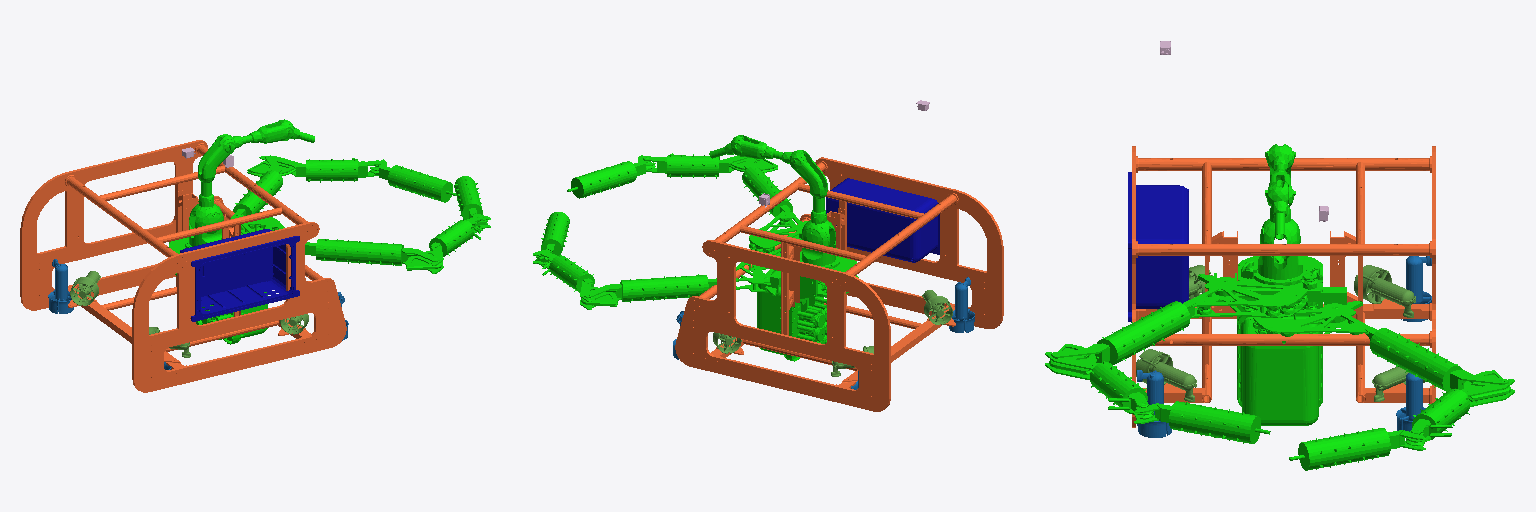
URDF robot description (spir_body):
<?xml version="1.0"?>
<robot name="spir_body">

<!-- Centre of geometry for robot. Defined as half way between furthest vertical extremeties of HDPE frame (i.e
     plastic orange side panels) in 3 dimensions -->
     <link name="COG" >
        <visual>
        <material name="orange">
            <color rgba="1 0.48 0.26 0.8" />
        </material>
        <origin xyz="0 0 0" rpy="0 0 0"/>
            <geometry>
                <mesh filename="package://spir_body/mesh/visual/frame_mesh.STL" />
            </geometry>
        </visual>
    </link>




<!-- Centre of mass for robot-->
    <link name="COM" />

<!--    Centre of buoyancy for robot-->
    <link name="COB" />
    
    <link name="sonar"/>
    
    <!-- depth sensor>-->
    <link name="DS"/>


<!--A fixed payload frame is modelled relative to the centre of gravity. Another 3 frames are modelled to simulate the movement-->
<!--of the payload in each of the 3 dimensions due to the rubber mounts. This will allow a second IMU to be placed on the payload-->
<!--to give the actual pose.-->

<!--Fixed Payload-->
    <link name="suspension" />
    <link name="suspension_phant1" />
    <link name="suspension_phant2" />
    <link name="payload" />
    <link name="/Hokuyo_URG_04LX_UG01_ROS"/>
    <link name="laser"/>
    <link name="IMU2"/>



<!--LV Enclosure-->
    <link name="LV_enclosure" >
        <visual>
        <material name="blue">
            <color rgba="0.1 0.1 0.7 0.25" />
        </material>
        <origin xyz="-0.05 0 0" rpy="0 0 0"/>
            <geometry>
                <mesh filename="package://spir_body/mesh/visual/LV_with_mounting_plate.STL" />
            </geometry>
        </visual>
    </link>

<!--Arms-->
    <link name="Arms" >
        <visual>
        <material name="green">
            <color rgba="0.1 0.9 0.1 0.8" />
        </material>
<!--         <origin xyz=".2 0.1 0.3" rpy="1.5708 0 -1.5708"/> -->
	<origin xyz="-0.4 -0.1 0.3" rpy="1.5708 0 1.5708"/>
            <geometry>
                <mesh filename="package://spir_body/mesh/visual/arms.STL" />
            </geometry>
        </visual>
    </link>


<!--IMU-->
    <link name="IMU" >
        <visual>
        <material name="light blue">
            <color rgba="0.88 0.75 0.86 1" />
        </material>
        <origin xyz="0 0 0" rpy="0 3.1412 0"/>
            <geometry>
                <mesh filename="package://spir_body/mesh/visual/IMU.STL" />
            </geometry>
        </visual>
    </link>

    <link name="LIDAR" >
        <visual>
        <material name="light blue">
            <color rgba="0.88 0.75 0.86 1" />
        </material>
        <origin xyz="0 0 0" rpy="0 0 0"/>
	   <geometry>
                <mesh filename="package://spir_body/mesh/visual/IMU.STL" />
            </geometry>
        </visual>
    </link>




<!--     Thruster links (thruster acts along z axis)-->
    <link name="t1">
        <visual>
        <material name="green">
            <color rgba="0.42 0.66 0.33 1" />
        </material>
        <origin xyz="0 0 0" rpy="0 0 0" />
            <geometry>
                <mesh filename="package://spir_body/mesh/visual/thruster_mesh.STL" />
            </geometry>
        </visual>
    </link>


    <link name="t2" >
    <visual>
    <material name="green">
            <color rgba="0.42 0.66 0.33 1" />
        </material>
        <origin xyz="0 0 0" rpy="0 0 0" />
            <geometry>

                <mesh filename="package://spir_body/mesh/visual/thruster_mesh.STL" />
            </geometry>
        </visual>
    </link>



    <link name="t3" >
    <visual>
        <material name="green">
            <color rgba="0.42 0.66 0.33 1" />
        </material>
        <origin xyz="0 0 0" rpy="0 0 0" />
            <geometry>

                <mesh filename="package://spir_body/mesh/visual/thruster_mesh.STL" />
            </geometry>
        </visual>
    </link>

    <link name="t4" >
    <visual>
    <material name="green">
            <color rgba="0.42 0.66 0.33 1" />
        </material>
        <origin xyz="0 0 0" rpy="0 0 0" />
            <geometry>
                <mesh filename="package://spir_body/mesh/visual/thruster_mesh.STL" />
            </geometry>
        </visual>
    </link>

    <link name="t5" >
    <visual>
        <material name="blue">
            <color rgba="0.16 0.47 0.71 1" />
        </material>
        <origin xyz="0 0 0" rpy="0 0 0" />
            <geometry>

                <mesh filename="package://spir_body/mesh/visual/thruster_mesh.STL" />
            </geometry>
        </visual>
    </link>

    <link name="t6" >
    <visual>
        <material name="blue">
            <color rgba="0.16 0.47 0.71 1" />
        </material>
        <origin xyz="0 0 0" rpy="0 0 0" />
            <geometry>

                <mesh filename="package://spir_body/mesh/visual/thruster_mesh.STL" />
            </geometry>
        </visual>
    </link>

    <link name="t7" >
    <visual>
        <material name="blue">
            <color rgba="0.16 0.47 0.71 1" />
        </material>
        <origin xyz="0 0 0" rpy="0 0 0" />
            <geometry>

                <mesh filename="package://spir_body/mesh/visual/thruster_mesh.STL" />
            </geometry>
        </visual>
    </link>

    <link name="t8" >
    <visual>
        <material name="blue">
            <color rgba="0.16 0.47 0.71 1" />
        </material>
        <origin xyz="0 0 0" rpy="0 0 0" />
            <geometry>

                <mesh filename="package://spir_body/mesh/visual/thruster_mesh.STL" />
            </geometry>
        </visual>
    </link>




<!-- Joints-->
<!--Centre of geometry to centre of mass-->
    <joint name="COG_to_COM" type="fixed">
        <parent link="COG"/>
        <child link="COM"/>
	<origin xyz="0.04 -0.01 0.1" rpy="0 0 0"/>
	<!--<origin xyz="1.0 0.0 0.025" rpy="0 0 0"/>-->
    </joint>

    <joint name="COG_to_sonar" type="fixed">
        <parent link="COG"/>
        <child link="sonar"/>
        <origin xyz="0.26 -0.14 -0.22" rpy="0 -0.785398 3.1416"/>
    </joint>
    
<joint name="Arms_to_IMU2" type="fixed">
        <parent link="Arms"/>
        <child link="IMU2"/>
	<!--    <origin xyz="0.29 0.07 0.250" rpy="0.5233 -0.52333 0.1744"/> <origin xyz="0.29 0.07 0.250" quaternion="0 0 -0.259 0.966"/> -->
	<!--<origin xyz="0.29 0.07 0.250" rpy="0.7137 0.1253 0.7137"/>-->
	<origin xyz="0.2 0.1 0.2" rpy="0 0 0"/>
	<!-- vrep euler angle is different that rpy used here, use matlab function quat2eul to convert-->
    </joint>

<!--Centre of geometry to centre of buoyancy-->
    <joint name="COG_to_COB" type="fixed">
        <parent link="COG"/>
        <child link="COB"/>
        <origin xyz="0.15 0.03 0.15" rpy="0 0 0"/>
    </joint>

    <joint name="COG_to_DS" type="fixed">
        <parent link="COG"/>
        <child link="DS"/>
        <origin xyz="-0.35 -0.04 0" rpy="0 0 0"/>
    </joint>

    
    <!--Centre of geometry to arms -->
    <joint name="COG_to_arms" type="fixed">
        <parent link="COG"/>
        <child link="Arms"/>
        <origin xyz="0 0 0" rpy="0 0 3.14"/>
    </joint>
    
<!--IMU-->
    <joint name="COG_to_LV" type="fixed">
        <parent link="COG"/>
        <child link="LV_enclosure"/>
        <origin xyz="0.06755 -0.2835 0.1" rpy="0 0 0"/>
    </joint>

    <joint name="COM_to_IMU" type="fixed">
        <parent link="COM"/>
        <child link="IMU"/>
	<!--    <origin xyz="0.29 0.07 0.250" rpy="0.5233 -0.52333 0.1744"/> <origin xyz="0.29 0.07 0.250" quaternion="0 0 -0.259 0.966"/> -->
	<!--<origin xyz="0.29 0.07 0.250" rpy="0.7137 0.1253 0.7137"/>-->
	<origin xyz="0.2 0.1 0.2" rpy="0 -1.6208 -1.57"/>
	<!-- vrep euler angle is different that rpy used here, use matlab function quat2eul to convert-->
    </joint>

<!--
    <joint name="LV_to_IMU" type="fixed">
        <parent link="LV_enclosure"/>
        <child link="IMU"/>
        <origin xyz="0.13676 0 0.06359" rpy="1.5708 0 3.1416"/>
    </joint>
-->
    <joint name="COM_to_LIDAR" type="fixed">
        <parent link="COM"/>
        <child link="LIDAR"/>
        <origin xyz="-0.2 -0.3 0.5" rpy="0 0 0"/>
    </joint>
    
        <joint name="COG_to_laser" type="fixed">
        <parent link="COG"/>
        <child link="laser"/>
<!--  <origin xyz="-0.22 -0.265 0.42" rpy="3.1416 0 0"/> -->
    <origin xyz="-0.22 0.265 0.42" rpy="0 0 0"/>
	</joint>

    <joint name="LIDAR_to_DEVICE" type="fixed">
        <parent link="LIDAR"/>
        <child link="/Hokuyo_URG_04LX_UG01_ROS"/>
        <origin xyz="0 0 0" rpy="0 0 0"/>
    </joint>

<!--Payload-->
<!--Fixed Payload-->
    <joint name="COG_to_fixed_payload" type="fixed">
        <parent link="COG"/>
        <child link="suspension"/>
        <origin xyz="0.12995 0 0.11989" rpy="0 0 0"/>
    </joint>


<!--Payload joint 1-->
    <joint name="fixed_payload_to_phant_1" type="revolute">
        <parent link="suspension"/>
        <child link="suspension_phant1"/>
        <origin xyz="0 0 0.015" rpy="0 0 0"/>
        <axis xyz="0 0 1" />
        <limit upper="0.04" lower="-0.04" effort="10" velocity="10" />
    </joint>


<!--Payload joint 2-->
    <joint name="fixed_payload_to_phant_2" type="revolute">
        <parent link="suspension_phant1"/>
        <child link="suspension_phant2"/>
        <origin xyz="0 0 0" rpy="0 0 0"/>
        <axis xyz="0 1 0" />
        <limit upper="0.04" lower="-0.04" effort="10" velocity="10" />
    </joint>


<!--This joint becomes the dynamic payload joint. Other links on the payload are referenced here-->
<!--Payload joint 3-->
    <joint name="fixed_payload_to_phant_3" type="revolute">
        <parent link="suspension_phant2"/>
        <child link="payload"/>
        <origin xyz="0 0 0" rpy="0 0 0"/>
        <axis xyz="1 0 0" />
        <limit upper="0.04" lower="-0.04" effort="10" velocity="10" />
    </joint>




<!-- Thrusters-->
    <joint name="COG_to_t1" type="fixed">
        <parent link="COG"/>
        <child link="t1"/>
        <origin xyz="0.23365 0.3576 -0.139" rpy="-1.5708 0 -2.3652" />
    </joint>


    <joint name="COG_to_t2" type="fixed">
        <parent link="COG"/>
        <child link="t2"/>
        <origin xyz="-0.28521 0.2124 -0.139" rpy="-1.5708 0 -0.7854" />
    </joint>


    <joint name="COG_to_t3" type="fixed">
        <parent link="COG"/>
        <child link="t3"/>
        <origin xyz="-0.28521 -0.2124 -0.139" rpy="-1.5708 0 -2.3652" />
    </joint>


    <joint name="COG_to_t4" type="fixed">
        <parent link="COG"/>
        <child link="t4"/>
        <origin xyz="0.23365 -0.3576 -0.139" rpy="-1.5708 0 -0.7854" />
    </joint>


    <joint name="COG_to_t5" type="fixed">
        <parent link="COG"/>
        <child link="t5"/>
        <origin xyz="0.4175 0.3375 -0.24012" rpy="0 0 0" />
    </joint>


    <joint name="COG_to_t6" type="fixed">
        <parent link="COG"/>
        <child link="t6"/>
        <origin xyz="-0.2975 0.3375 -0.24012" rpy="0 0 0" />
    </joint>


    <joint name="COG_to_t7" type="fixed">
        <parent link="COG"/>
        <child link="t7"/>
        <origin xyz="-0.2975 -0.3375 -0.24012" rpy="0 0 3.141592654" />
    </joint>


    <joint name="COG_to_t8" type="fixed">
        <parent link="COG"/>
        <child link="t8"/>
        <origin xyz="0.4175 -0.3375 -0.24012" rpy="0 0 3.141592654" />
    </joint>





</robot>

--- Render facts (derived) ---
Views: 3 orthographic renders of the robot side by side, from view 1: azimuth 30°, elevation 25°; view 2: azimuth 150°, elevation 25°; view 3: azimuth 270°, elevation 25°.
Model spir_body with 24 links and 23 joints (3 revolute, 20 fixed), rooted at COG, posed all joints at 0.
Links seen in each view (by area): view 1: COG, Arms, LV_enclosure, t6, t2; view 2: COG, Arms, LV_enclosure, t7, t3; view 3: Arms, COG, LV_enclosure, t2, t4, t8, t5, t6, t1.
Link boxes in pixels (x1=…): COG: x1=20, y1=140, x2=346, y2=392; Arms: x1=169, y1=119, x2=490, y2=344; LV_enclosure: x1=180, y1=229, x2=299, y2=321; t6: x1=48, y1=259, x2=73, y2=313; t2: x1=70, y1=271, x2=100, y2=305; COG: x1=675, y1=157, x2=1003, y2=411; Arms: x1=533, y1=135, x2=858, y2=361; LV_enclosure: x1=826, y1=178, x2=939, y2=262; t7: x1=949, y1=277, x2=974, y2=332; t3: x1=922, y1=290, x2=952, y2=324; Arms: x1=1045, y1=144, x2=1514, y2=470; COG: x1=1132, y1=146, x2=1435, y2=427; LV_enclosure: x1=1128, y1=172, x2=1188, y2=321; t2: x1=1354, y1=265, x2=1415, y2=317; t4: x1=1136, y1=349, x2=1196, y2=401; t8: x1=1137, y1=370, x2=1171, y2=437; t5: x1=1396, y1=373, x2=1425, y2=431; t6: x1=1401, y1=256, x2=1431, y2=321; t1: x1=1372, y1=367, x2=1424, y2=401.
Size in the robot's own frame: 1.56 by 1.23 by 0.9049 metres.
Meshes: 5 distinct files referenced, 13 mesh visuals loaded (5 binary STL).